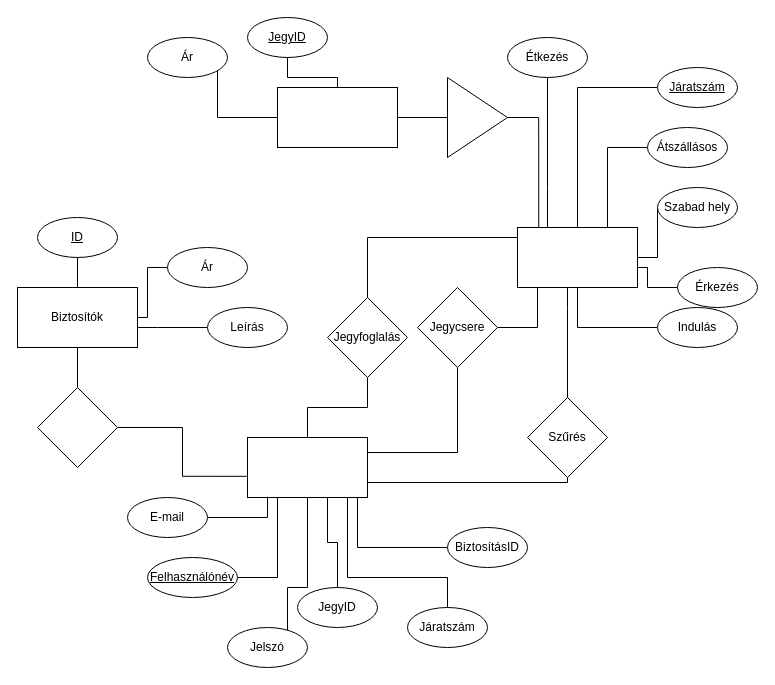
Some shapes in this 775 by 685 pixel diagram are drawn without their labels. Each missing label, with the centre of its shape:
"Biztosítást köt" goes at point 77,427.
"Jegyek" goes at point 337,117.
"Járatok" goes at point 577,257.
"Utasok" goes at point 307,467.
